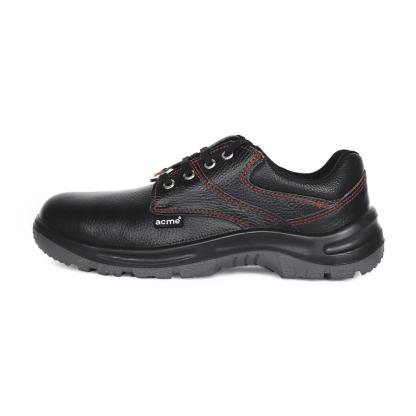bota: (29, 131, 387, 283)
